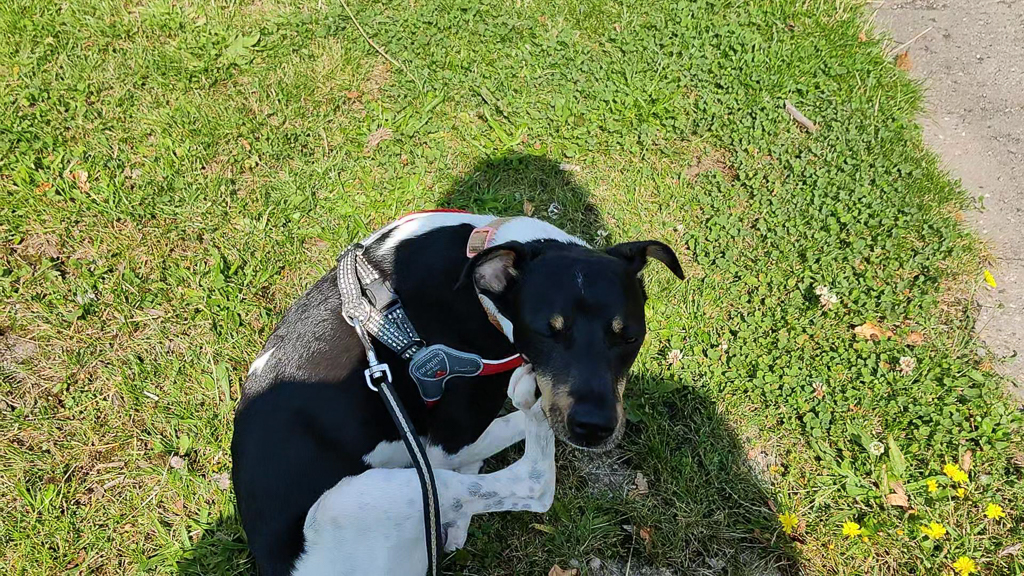Dog: (208, 187, 702, 576)
